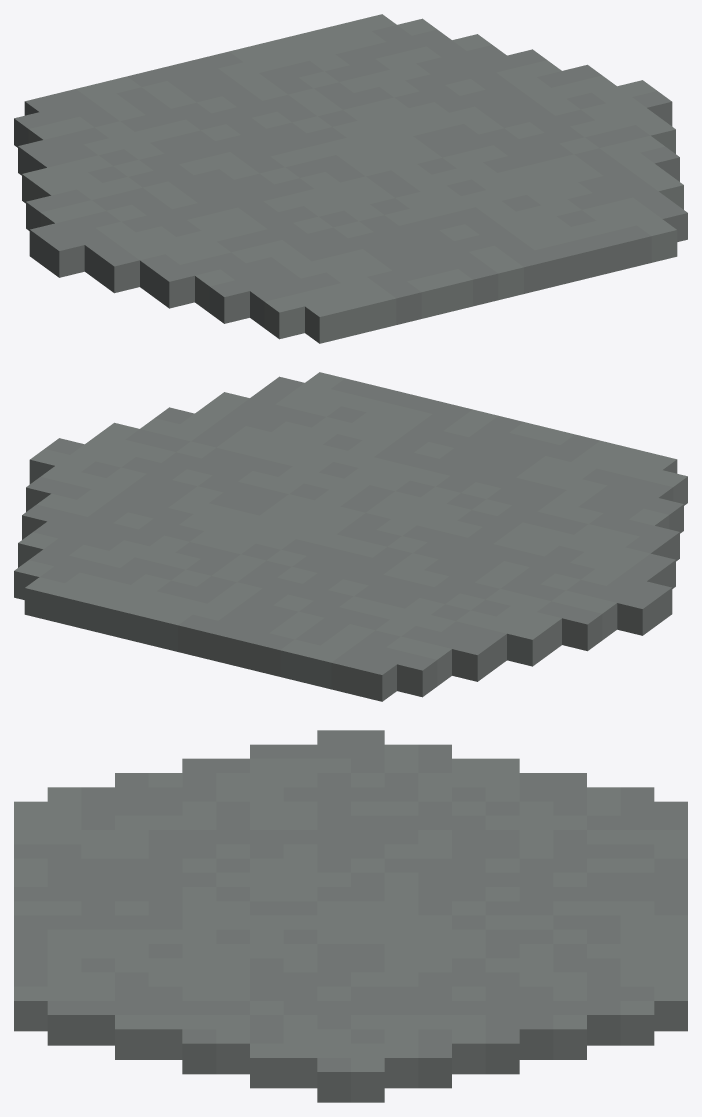
Rendered from overworld-25-stone_1px.obj.
3 renders of one model, top to bottom at view 1: azimuth 30°, elevation 25°; view 2: azimuth 150°, elevation 25°; view 3: azimuth 270°, elevation 25°, orthographic. The views are drawn at different scales.
Parts seen in each view (by area): view 1: stone_1px; view 2: stone_1px; view 3: stone_1px.
Boxes of the visible parts, x1,y1,x2,y2 form: stone_1px: [14, 14, 687, 343]; stone_1px: [14, 372, 687, 701]; stone_1px: [14, 730, 687, 1102].
Bounding box in the file's own units: 2.4 × 0.1 × 2.
1 material, 1 textured.
